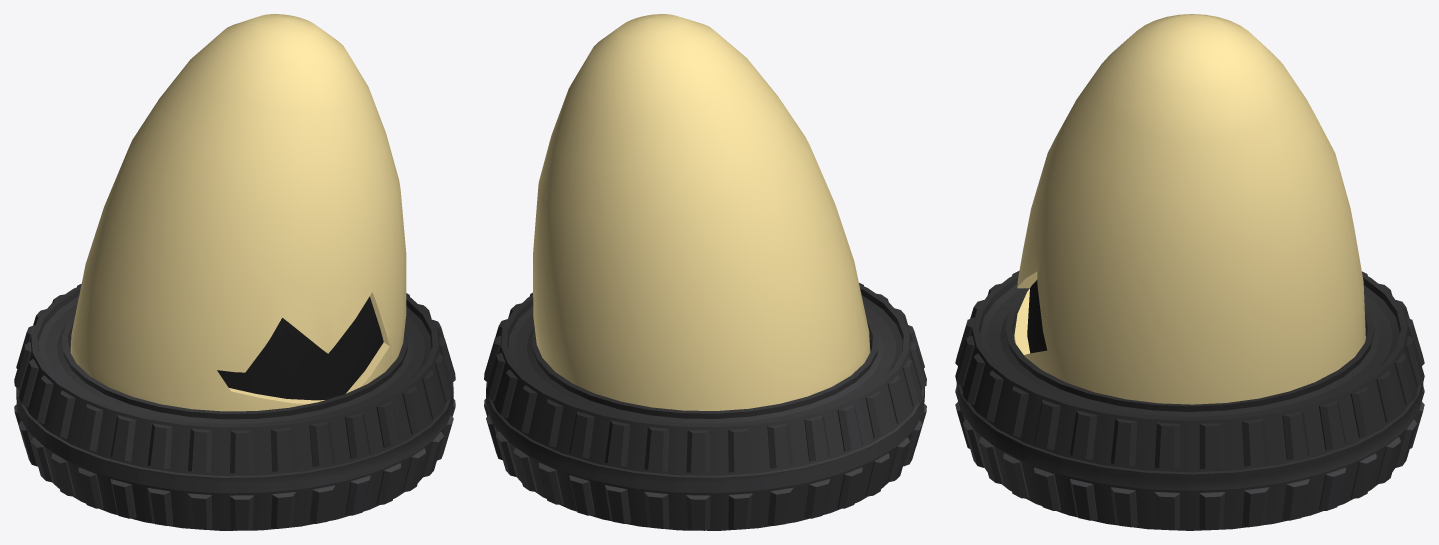
File: EGG_IN_A_WHEEL_cracked.fbx
3 renders of one model, left to right at view 1: azimuth 30°, elevation 25°; view 2: azimuth 150°, elevation 25°; view 3: azimuth 270°, elevation 25°, orthographic. The views are drawn at different scales.
Visible parts, largest first — view 1: Sphere, Cylinder; view 2: Sphere, Cylinder; view 3: Sphere, Cylinder.
Part boxes in pixels (x1,y1,x2,y2): Sphere: (70,14,406,411); Cylinder: (14,284,455,530); Sphere: (533,14,870,410); Cylinder: (484,283,926,530); Sphere: (1014,14,1365,404); Cylinder: (955,270,1424,530).
Size of the model in its own units: 1889 by 2249 by 1889.
